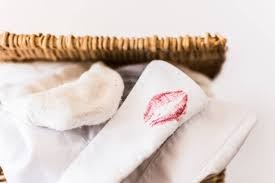lipstick: (145, 89, 189, 126)
